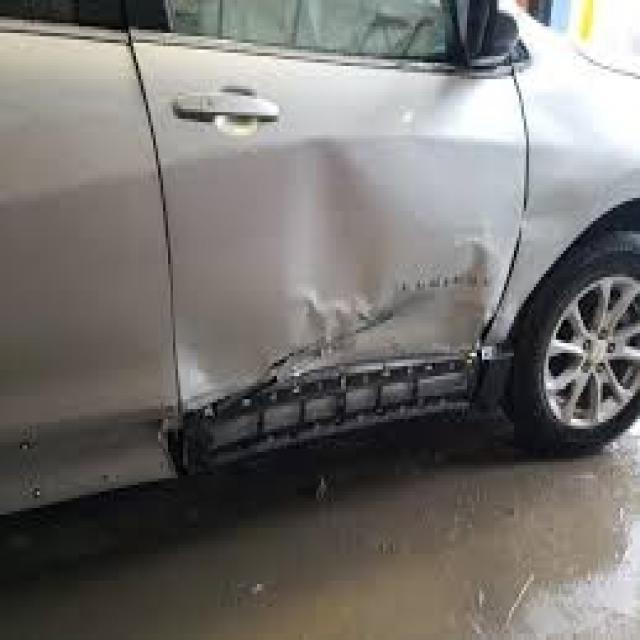damaged-door: (132, 0, 529, 457)
